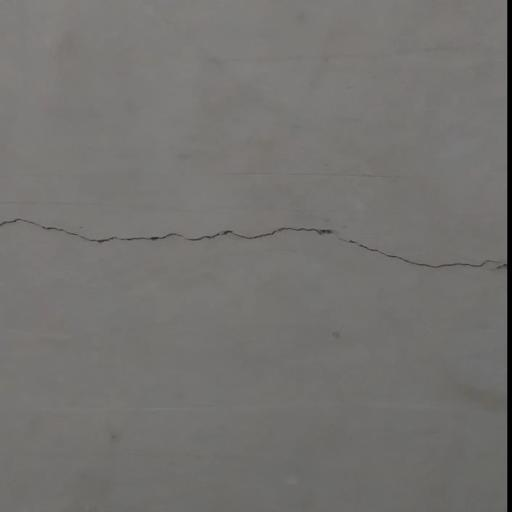minor_crack: (1, 184, 505, 289)
